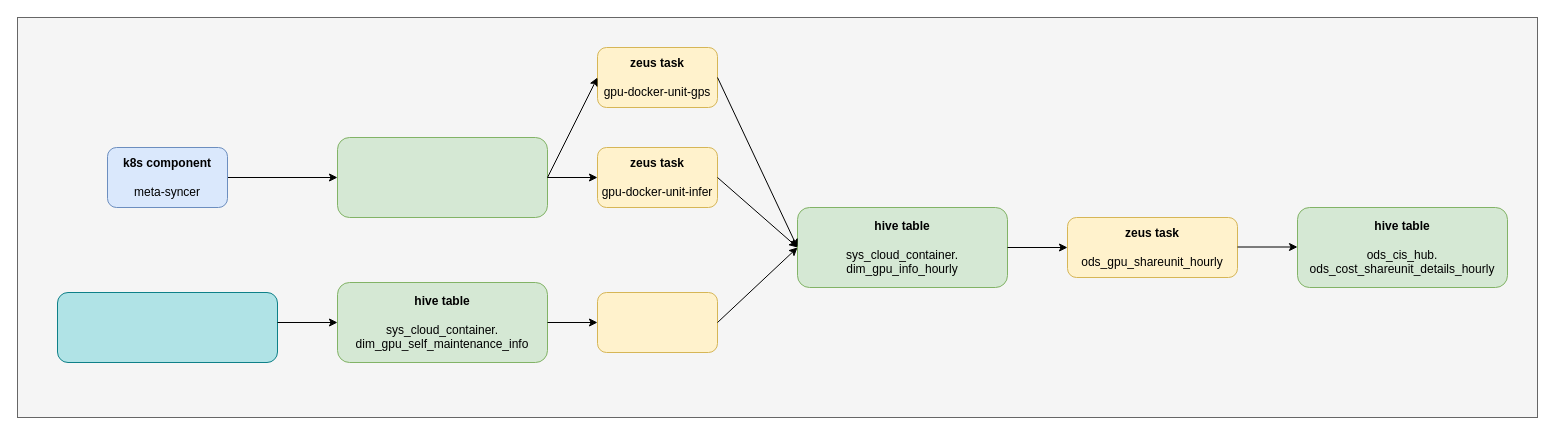
Image size: 1555x435. Some labels were removed from this diagram. The centre of each missing label's shape, as x and y in pixels:
hive dim_gpu_self_maintenance_info.hive: (x=167, y=327)
hive table sys_cloud_container. edw_meta_syncer_pod_util: (x=442, y=177)
zeus task gpu-bm-unit: (x=657, y=322)
